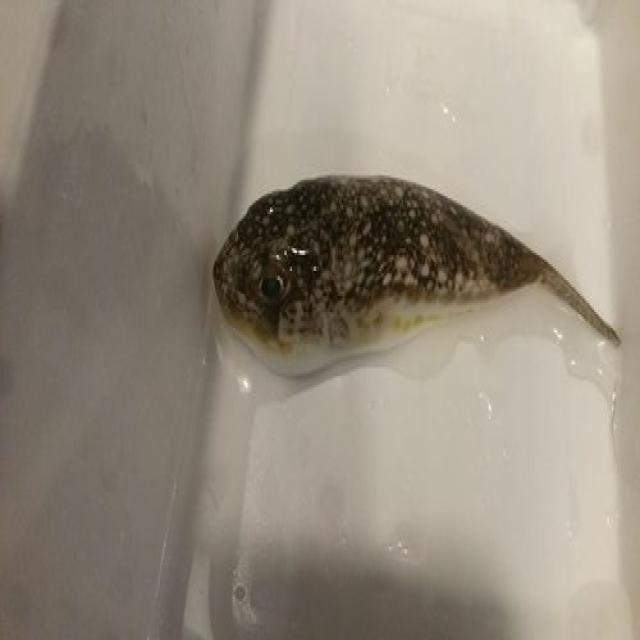Balik: (213, 178, 619, 373)
